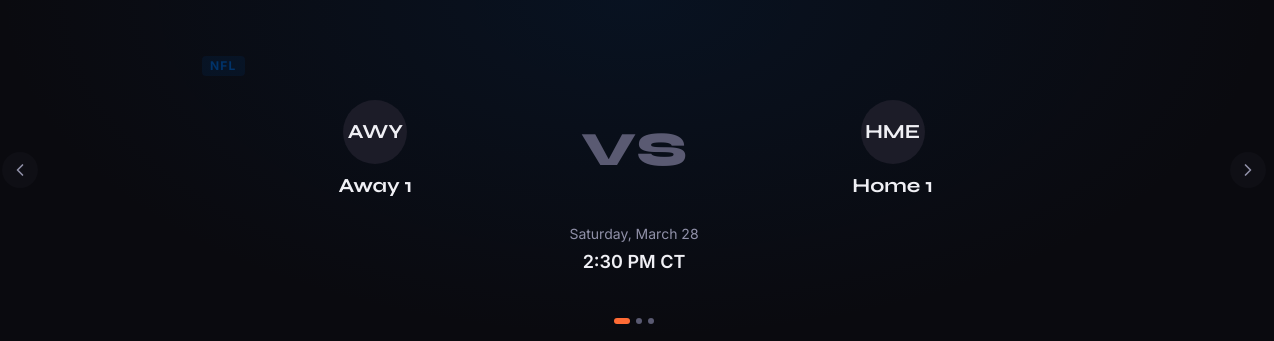
Test case: HeroBanner › navigates backward via dot at lower index
The image size is (1274, 341).
Note: Advance to event 3
Click the button named "Next event" at x=1248, y=170, box 1230,152 -> 1266,188
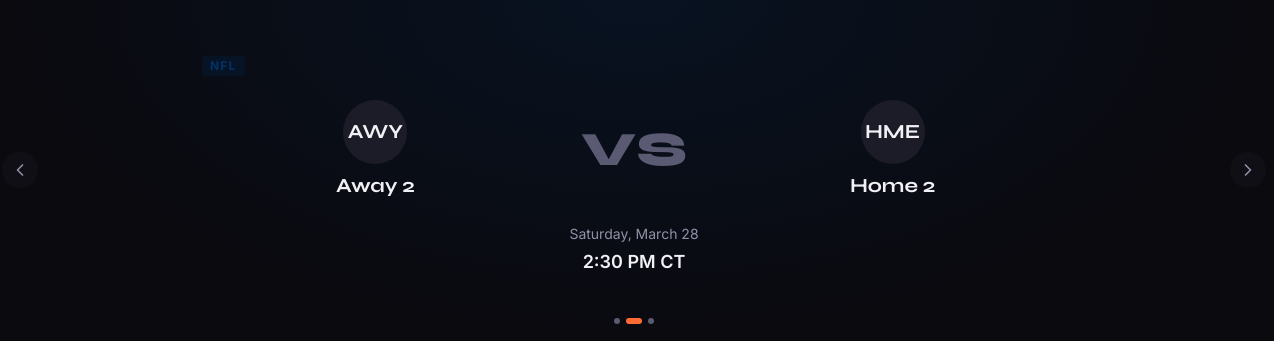
Click the button named "Next event" at x=1248, y=170, box 1230,152 -> 1266,188
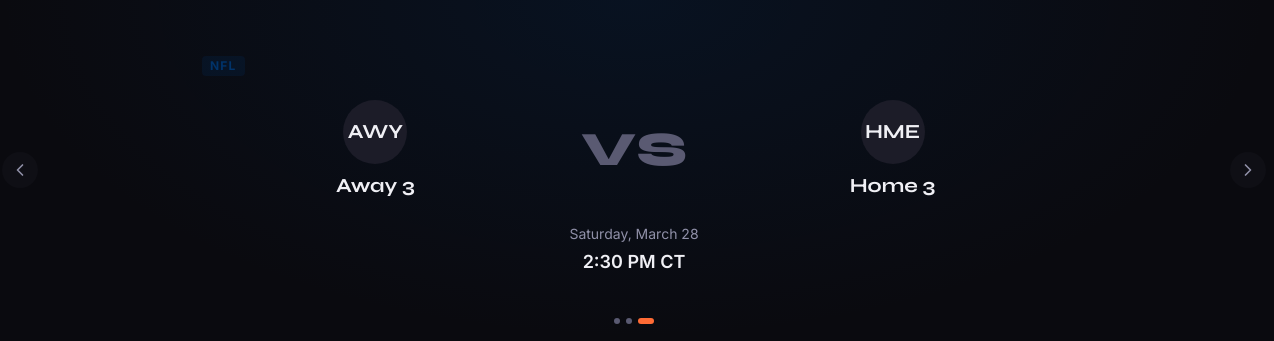
Expected: the text "Home 3" is shown, 850,173 -> 935,198
Click the button named "Go to event" at x=617, y=321, box 614,318 -> 620,324
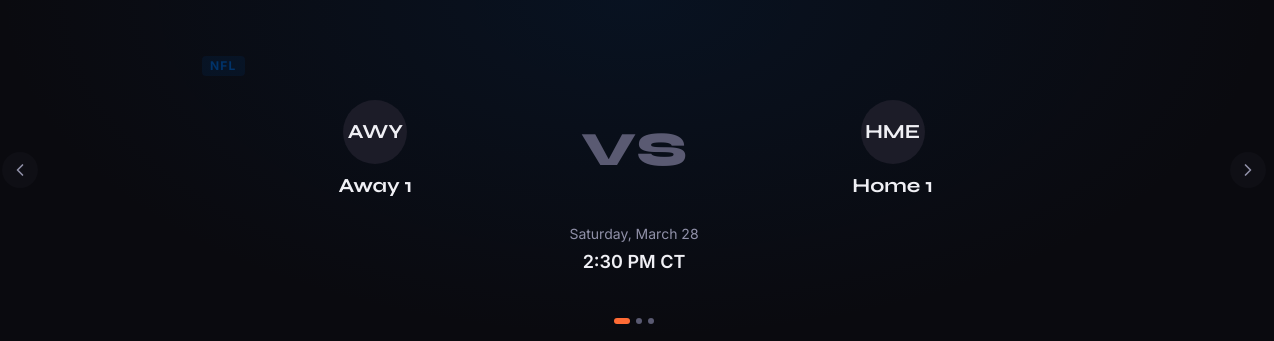
Expected: the text "Home 1" is shown, 852,173 -> 933,198
